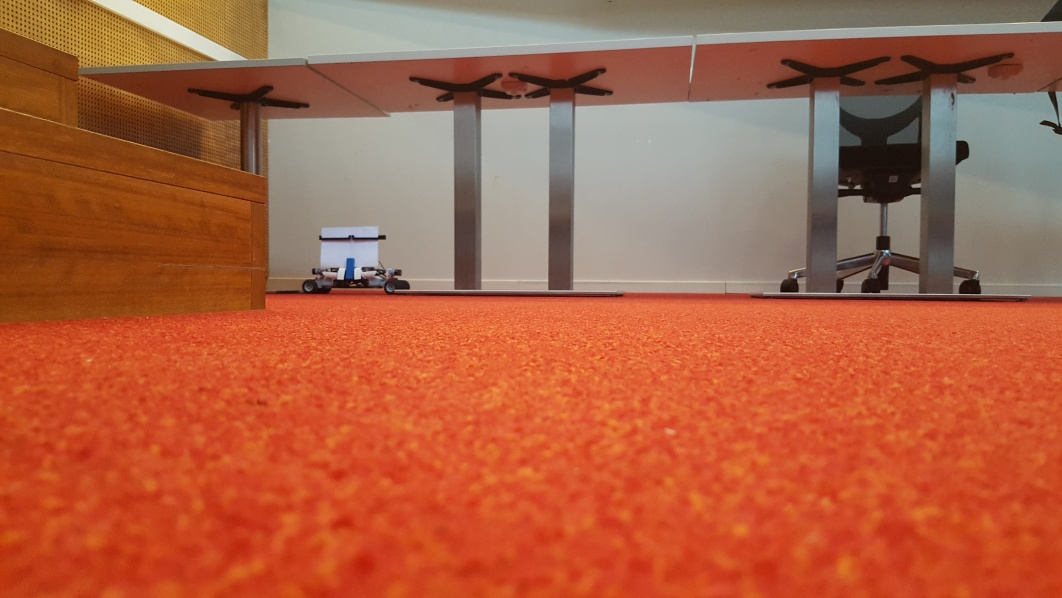car: (302, 225, 408, 298)
